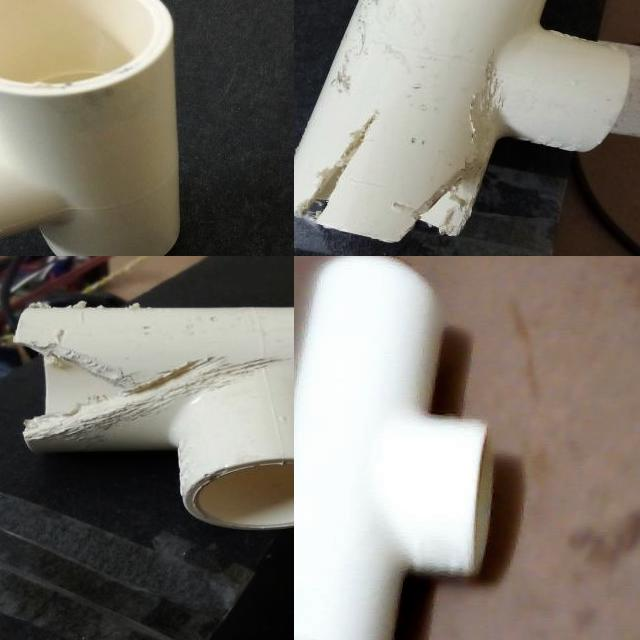Defective: (23, 356, 267, 450), (420, 63, 505, 240), (299, 112, 379, 222), (13, 305, 80, 363)
T Joint: (294, 0, 630, 247), (294, 256, 495, 640), (13, 304, 294, 533)
